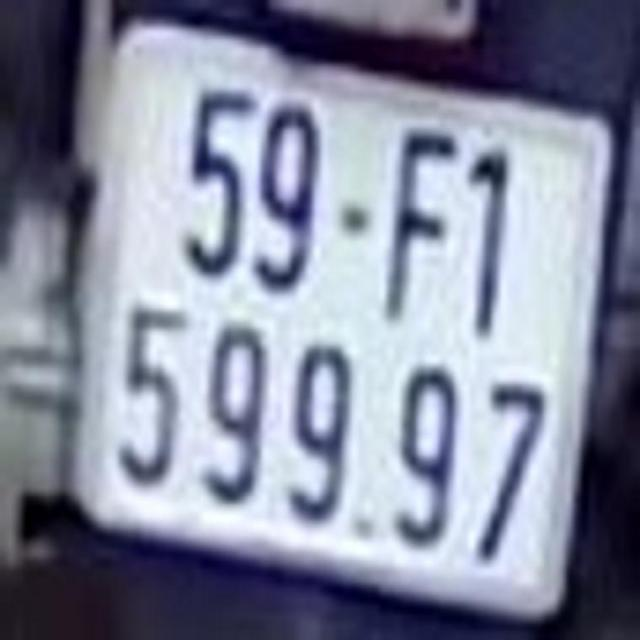1: (463, 142, 508, 332)
5: (186, 86, 250, 282), (121, 306, 179, 482)
7: (473, 382, 547, 562)
9: (206, 320, 270, 508), (256, 98, 316, 292), (293, 339, 353, 528), (395, 368, 449, 550)
F: (391, 124, 458, 326)
